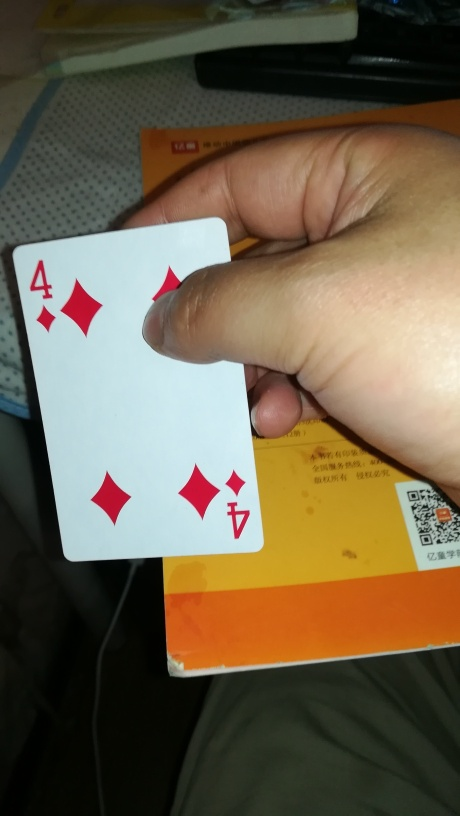fk 4: (10, 217, 266, 563)
